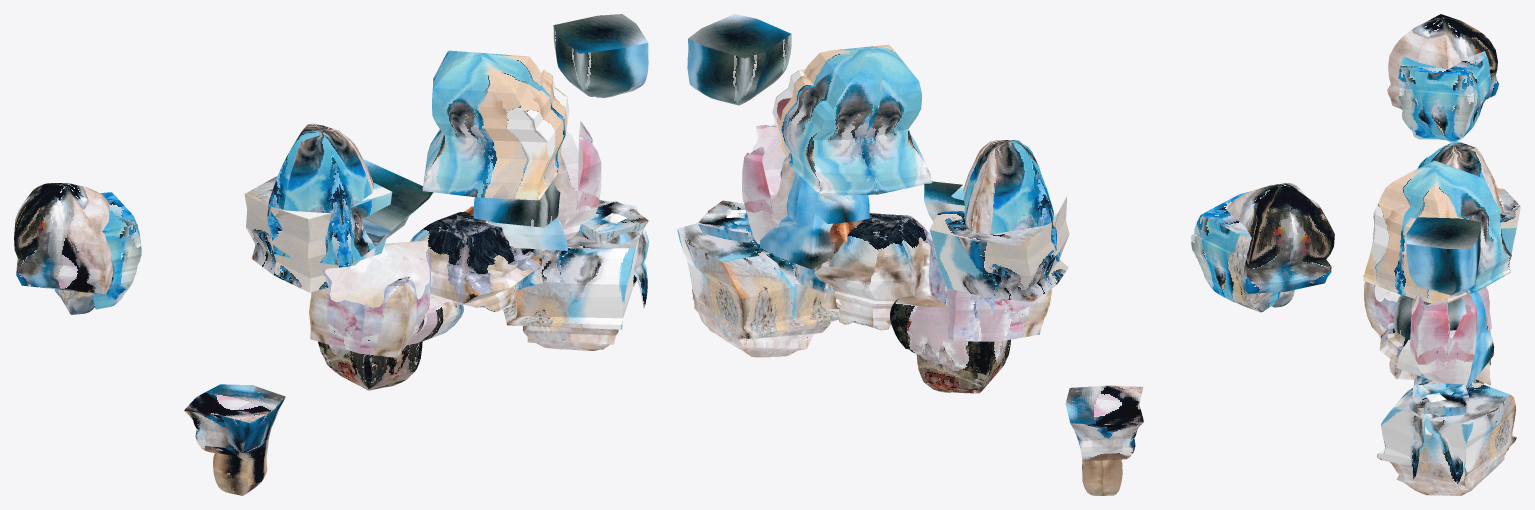
3 renders of one model, left to right at view 1: azimuth 30°, elevation 25°; view 2: azimuth 150°, elevation 25°; view 3: azimuth 270°, elevation 25°, orthographic. The views are drawn at different scales.
Visible parts, largest first — view 1: SPLICE_1 (×7), SPLICE_2 (×7), SPLICE_3 (×3); view 2: SPLICE_2 (×8), SPLICE_1 (×6), SPLICE_3 (×3); view 3: SPLICE_2 (×7), SPLICE_1 (×6), SPLICE_3.
Part boxes in pixels (bbox=[...]): SPLICE_1 (×7): bbox=[267, 50, 648, 311]; SPLICE_2 (×7): bbox=[14, 14, 648, 357]; SPLICE_3 (×3): bbox=[184, 199, 641, 495]; SPLICE_2 (×8): bbox=[687, 14, 1334, 341]; SPLICE_1 (×6): bbox=[697, 44, 1060, 330]; SPLICE_3 (×3): bbox=[677, 223, 1143, 495]; SPLICE_2 (×7): bbox=[1364, 14, 1520, 388]; SPLICE_1 (×6): bbox=[1363, 141, 1511, 485]; SPLICE_3: bbox=[1377, 379, 1516, 495].
Bounding box in the file's own units: 9.18 × 5.25 × 2.23.
19 materials, 19 textured.
